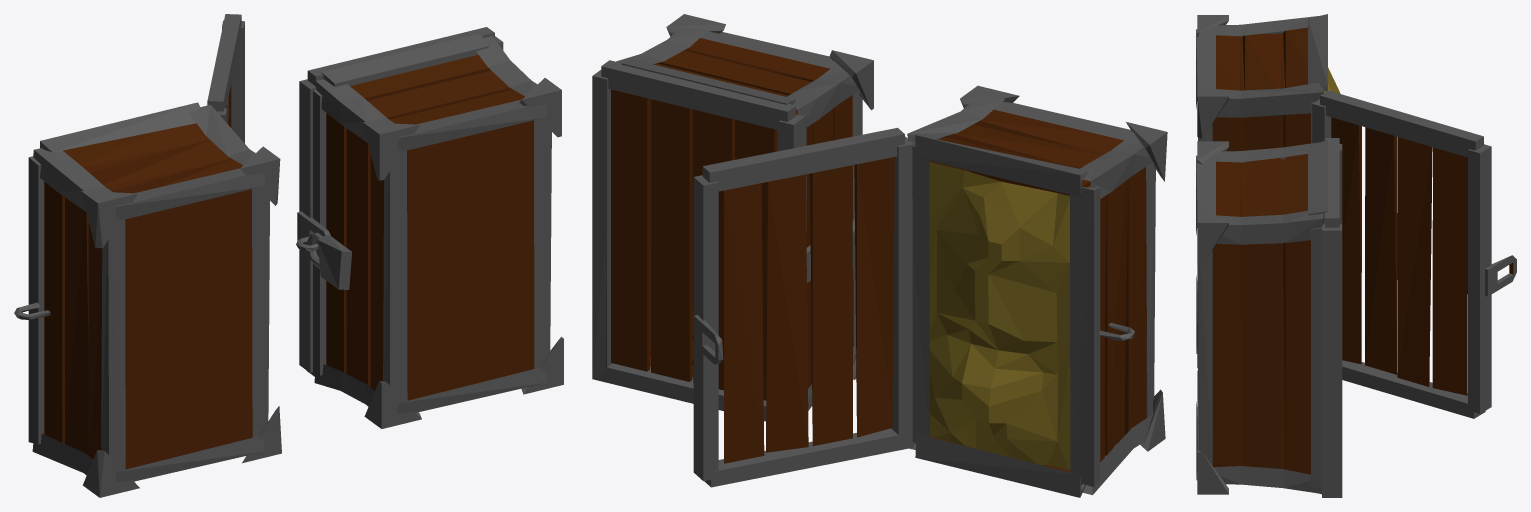
The model's file is chest03.FBX.
3 renders of one model, left to right at view 1: azimuth 30°, elevation 25°; view 2: azimuth 150°, elevation 25°; view 3: azimuth 270°, elevation 25°, orthographic. The views are drawn at different scales.
Visible parts, largest first — view 1: chest_three_close, chest_three_open; view 2: chest_three_open, chest_three_close; view 3: chest_three_open, chest_three_close.
Part boxes in pixels (x1,y1,x2,y2): chest_three_close: (296, 27, 563, 428); chest_three_open: (14, 14, 281, 497); chest_three_open: (693, 85, 1167, 497); chest_three_close: (592, 14, 873, 421); chest_three_open: (1196, 14, 1516, 418); chest_three_close: (1196, 138, 1342, 497).
Bounding box in the file's own units: 91.16 × 54.29 × 55.46.
